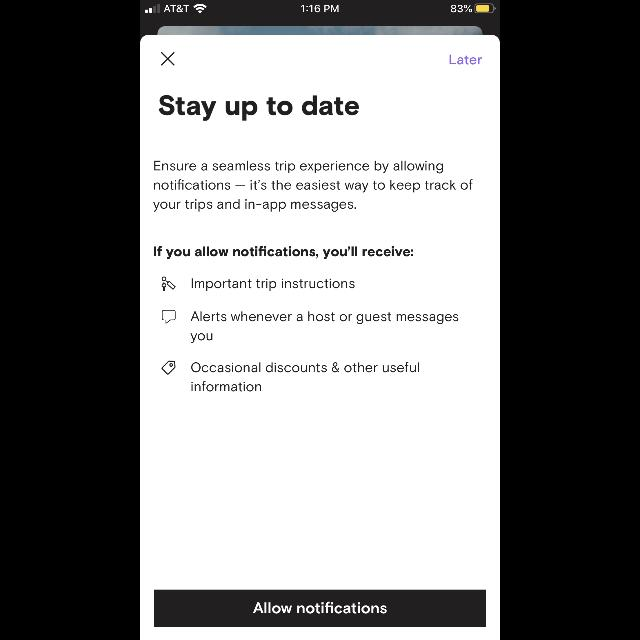icon: (162, 361, 176, 375), (162, 310, 176, 324), (161, 52, 175, 66)
image: (162, 276, 176, 292)
text: (154, 160, 472, 212), (190, 312, 458, 344), (192, 362, 418, 392), (159, 95, 359, 121), (154, 246, 412, 258), (192, 278, 354, 292), (450, 55, 482, 65)
textbutton: (154, 590, 486, 626)
uppertaskbar: (140, 0, 500, 14)
